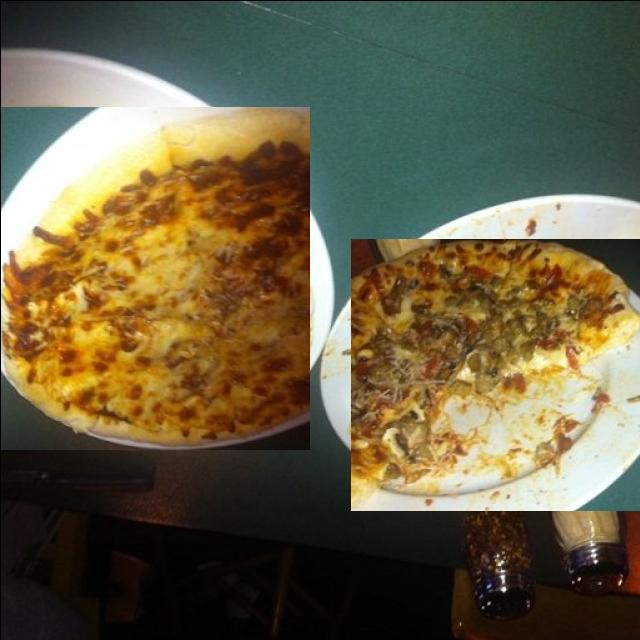pizza: (0, 106, 309, 449), (350, 238, 640, 510)
